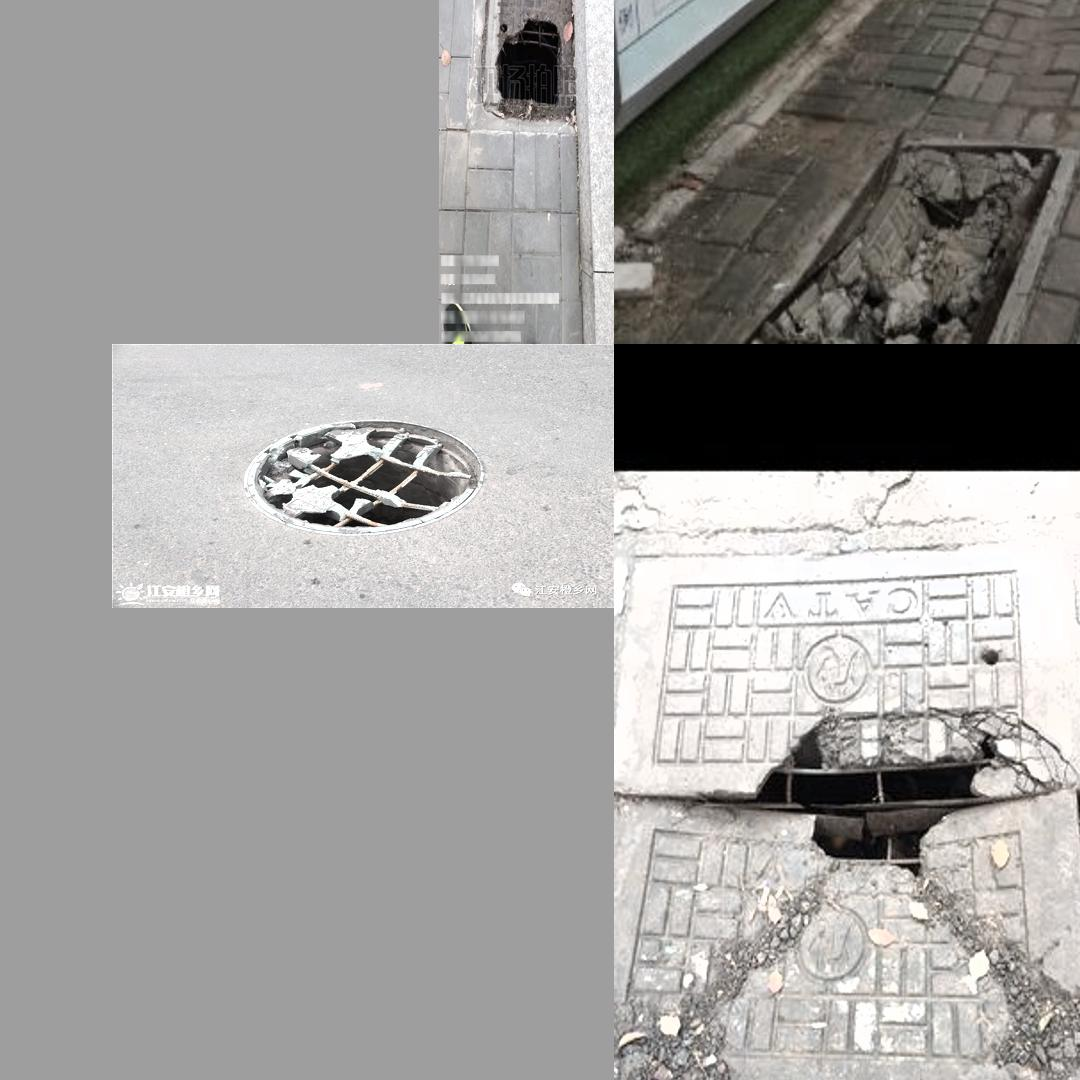broke: (621, 522, 1080, 1080), (735, 125, 1080, 344), (241, 410, 484, 540), (485, 0, 586, 125)
